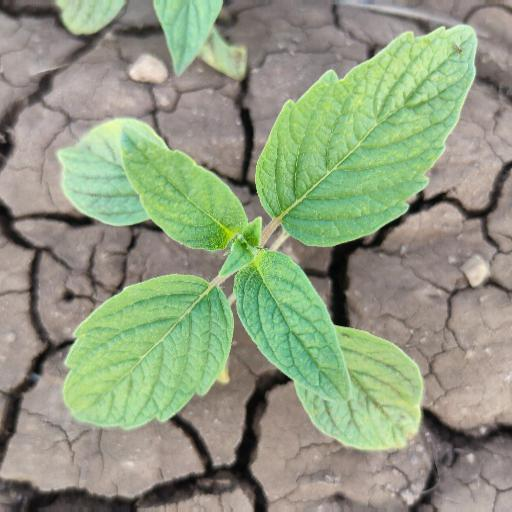crop: (19, 15, 485, 465)
